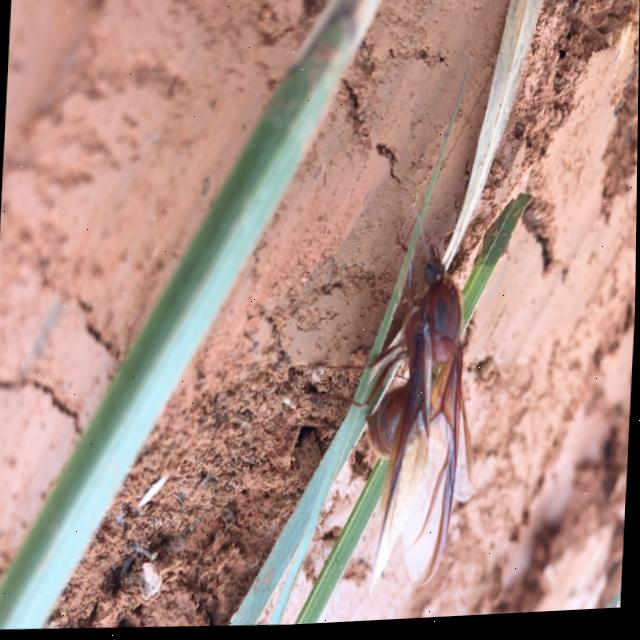Alive-Male-Alate: (297, 198, 489, 606)
